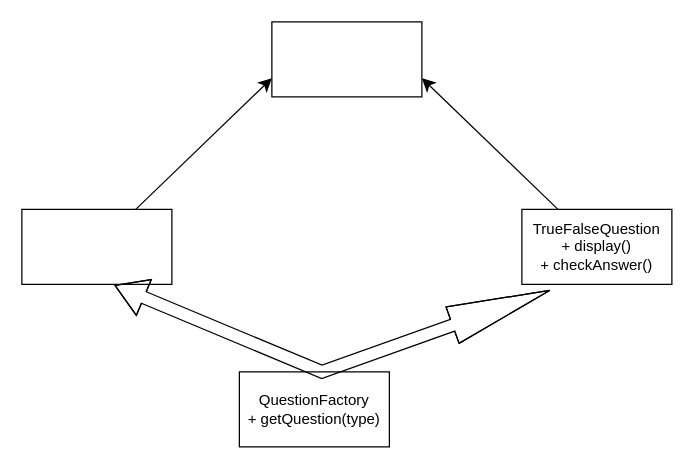
This 694x469 diagram has some shape labels left out. Here are the shapes that lost their labels. From the top down, the centre of each, then its label:
At (x=346, y=59): "Question (abstract) + display() + checkAnswer()".
At (x=96, y=246): "MCQQuestion + display() + checkAnswer()".
